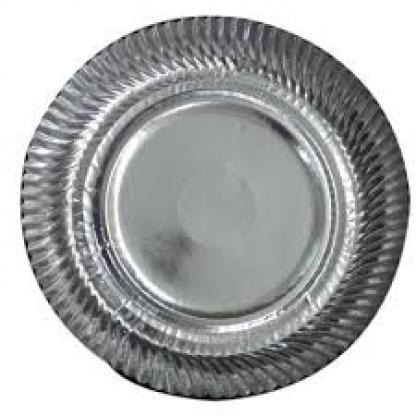METAL: (19, 15, 408, 397)
